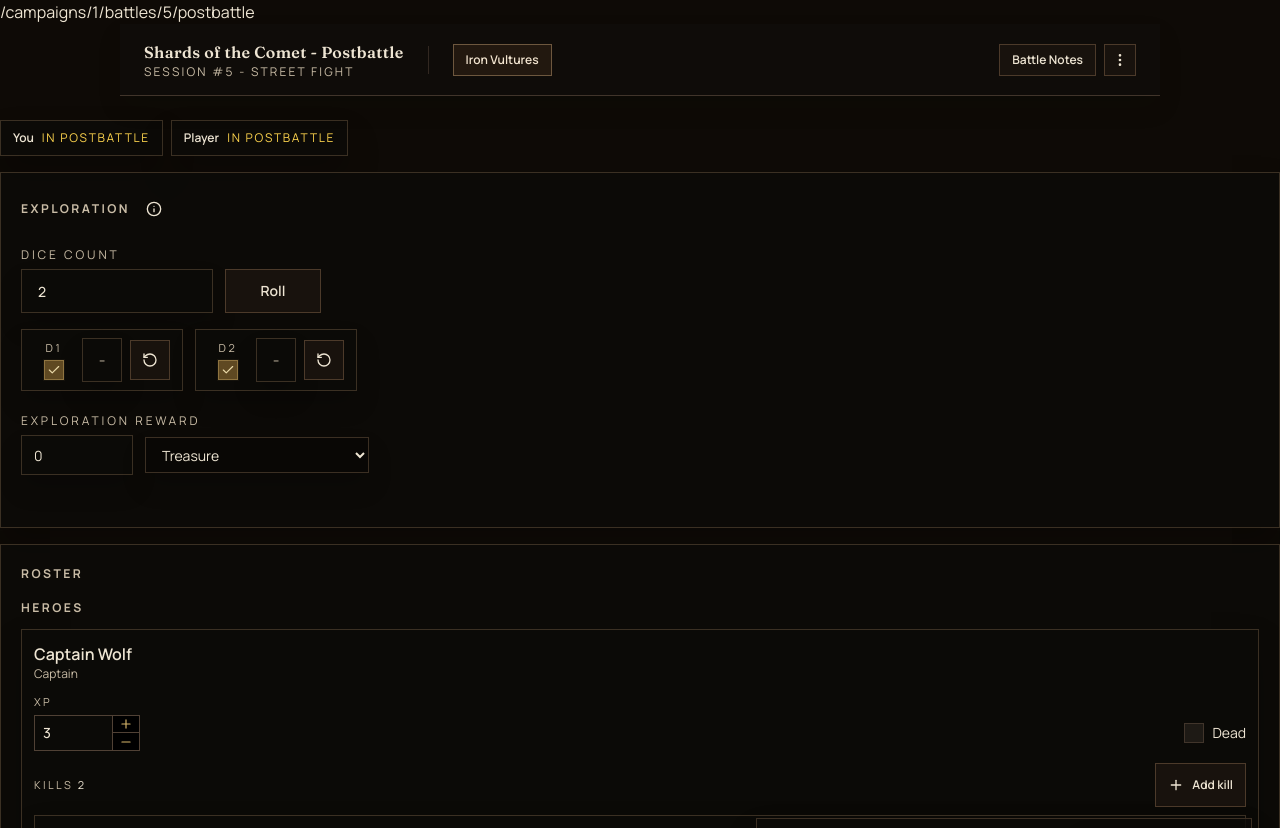
it: BattlePostbattle requests › offers Close postbattle as the server's capabilities say, whoever created the battle
This screenshot has width=1280, height=828.
Expected: the text "Captain Wolf" is shown, [34,642,132,666]
What coordinates should you click on to do the following:
click the button named "More actions"
I would click on:
 (1120, 60)
Its box is [1104,44,1136,76].
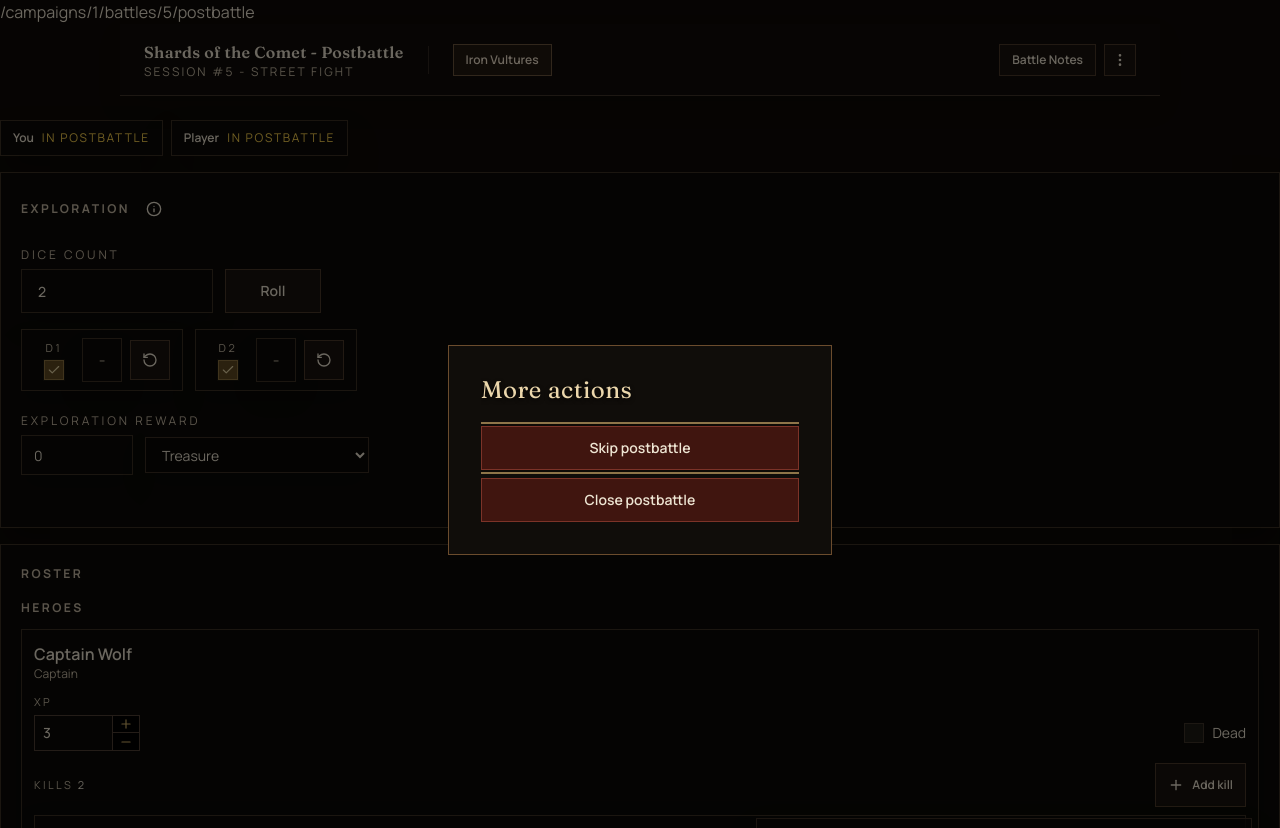
Result: the button "Close postbattle" is enabled at [481,478,799,522]
